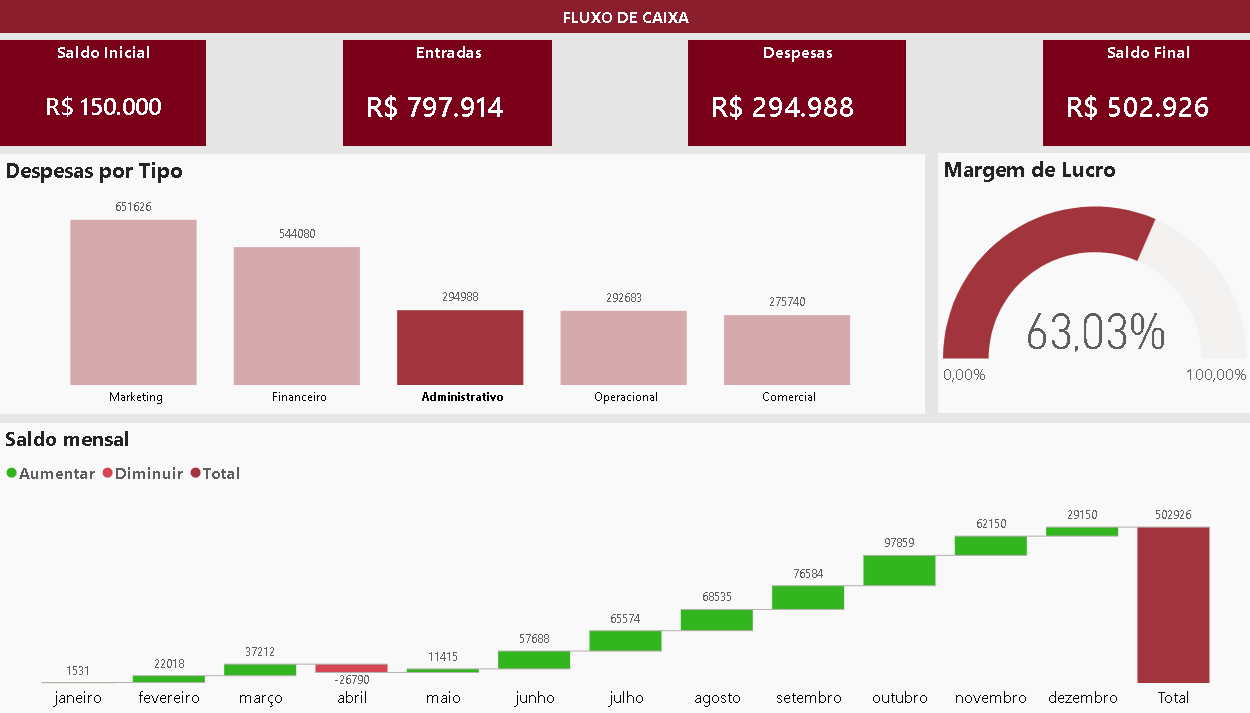

This screenshot's page, from the dashboard's own definition file:
{"tool":"powerbi","page":{"name":"Página 1","canvas":[1280,720],"ordinal":0},"visuals":[{"type":"columnChart","title":"Despesas por Tipo","fields":{"Category":["movimentacoes.centro_custos"],"Y":["movimentacoes.Despesas"]},"box":[19.7,155.8,925.1,259.7],"z":0},{"type":"waterfallChart","title":"Saldo mensal","fields":{"Category":["calendario.nome_mes"],"Y":["movimentacoes.Saldocascata"]},"box":[19.9,424.9,1252,295.6],"z":1000},{"type":"gauge","title":"Margem de Lucro","fields":{"Y":["movimentacoes.margemlucro"]},"box":[958.2,155.5,313.7,259.4],"z":2000},{"type":"cardVisual","title":"Saldo Inicial","fields":{"Data":["movimentacoes.Saldo Inicial Formatado"]},"box":[19.9,42.5,206.1,105.8],"z":3000},{"type":"shape","box":[20,2,1252,33],"z":4000},{"type":"cardVisual","title":"Entradas","fields":{"Data":["movimentacoes.Entradas Formatado"]},"box":[362.8,42.5,208.8,105.8],"z":5000},{"type":"cardVisual","title":"Despesas","fields":{"Data":["movimentacoes.Despesas Formatado"]},"box":[708.4,42.5,217.9,105.8],"z":6000},{"type":"cardVisual","title":"Saldo Final","fields":{"Data":["movimentacoes.Saldo Final Formatado"]},"box":[1063.1,42.5,208.8,105.8],"z":7000}]}

Visuals, with their boxes in screenshot pixels (x1, y1, x2, y2), scaled from the page's 1280x720 canvas onto the 1250x713 screenshot:
"Despesas por Tipo" columnChart: BBox(19, 154, 923, 411)
"Saldo mensal" waterfallChart: BBox(19, 421, 1242, 712)
"Margem de Lucro" gauge: BBox(936, 154, 1242, 411)
"Saldo Inicial" cardVisual: BBox(19, 42, 221, 147)
shape: BBox(20, 2, 1242, 35)
"Entradas" cardVisual: BBox(354, 42, 558, 147)
"Despesas" cardVisual: BBox(692, 42, 905, 147)
"Saldo Final" cardVisual: BBox(1038, 42, 1242, 147)
